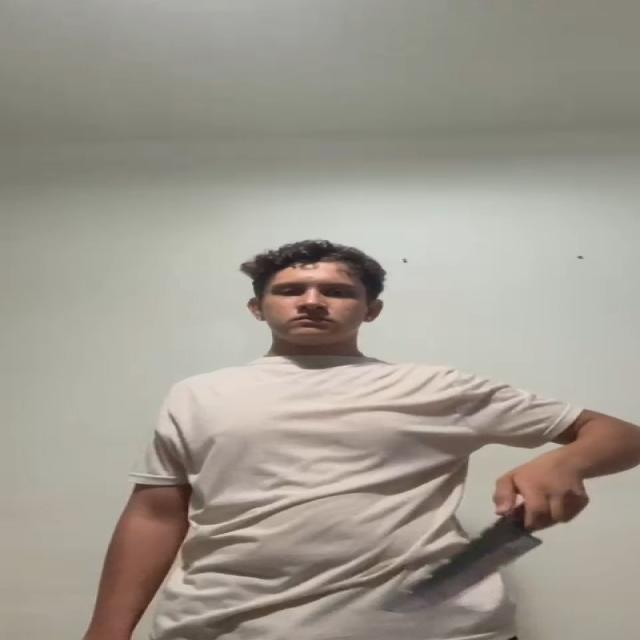knife: (399, 520, 544, 614)
